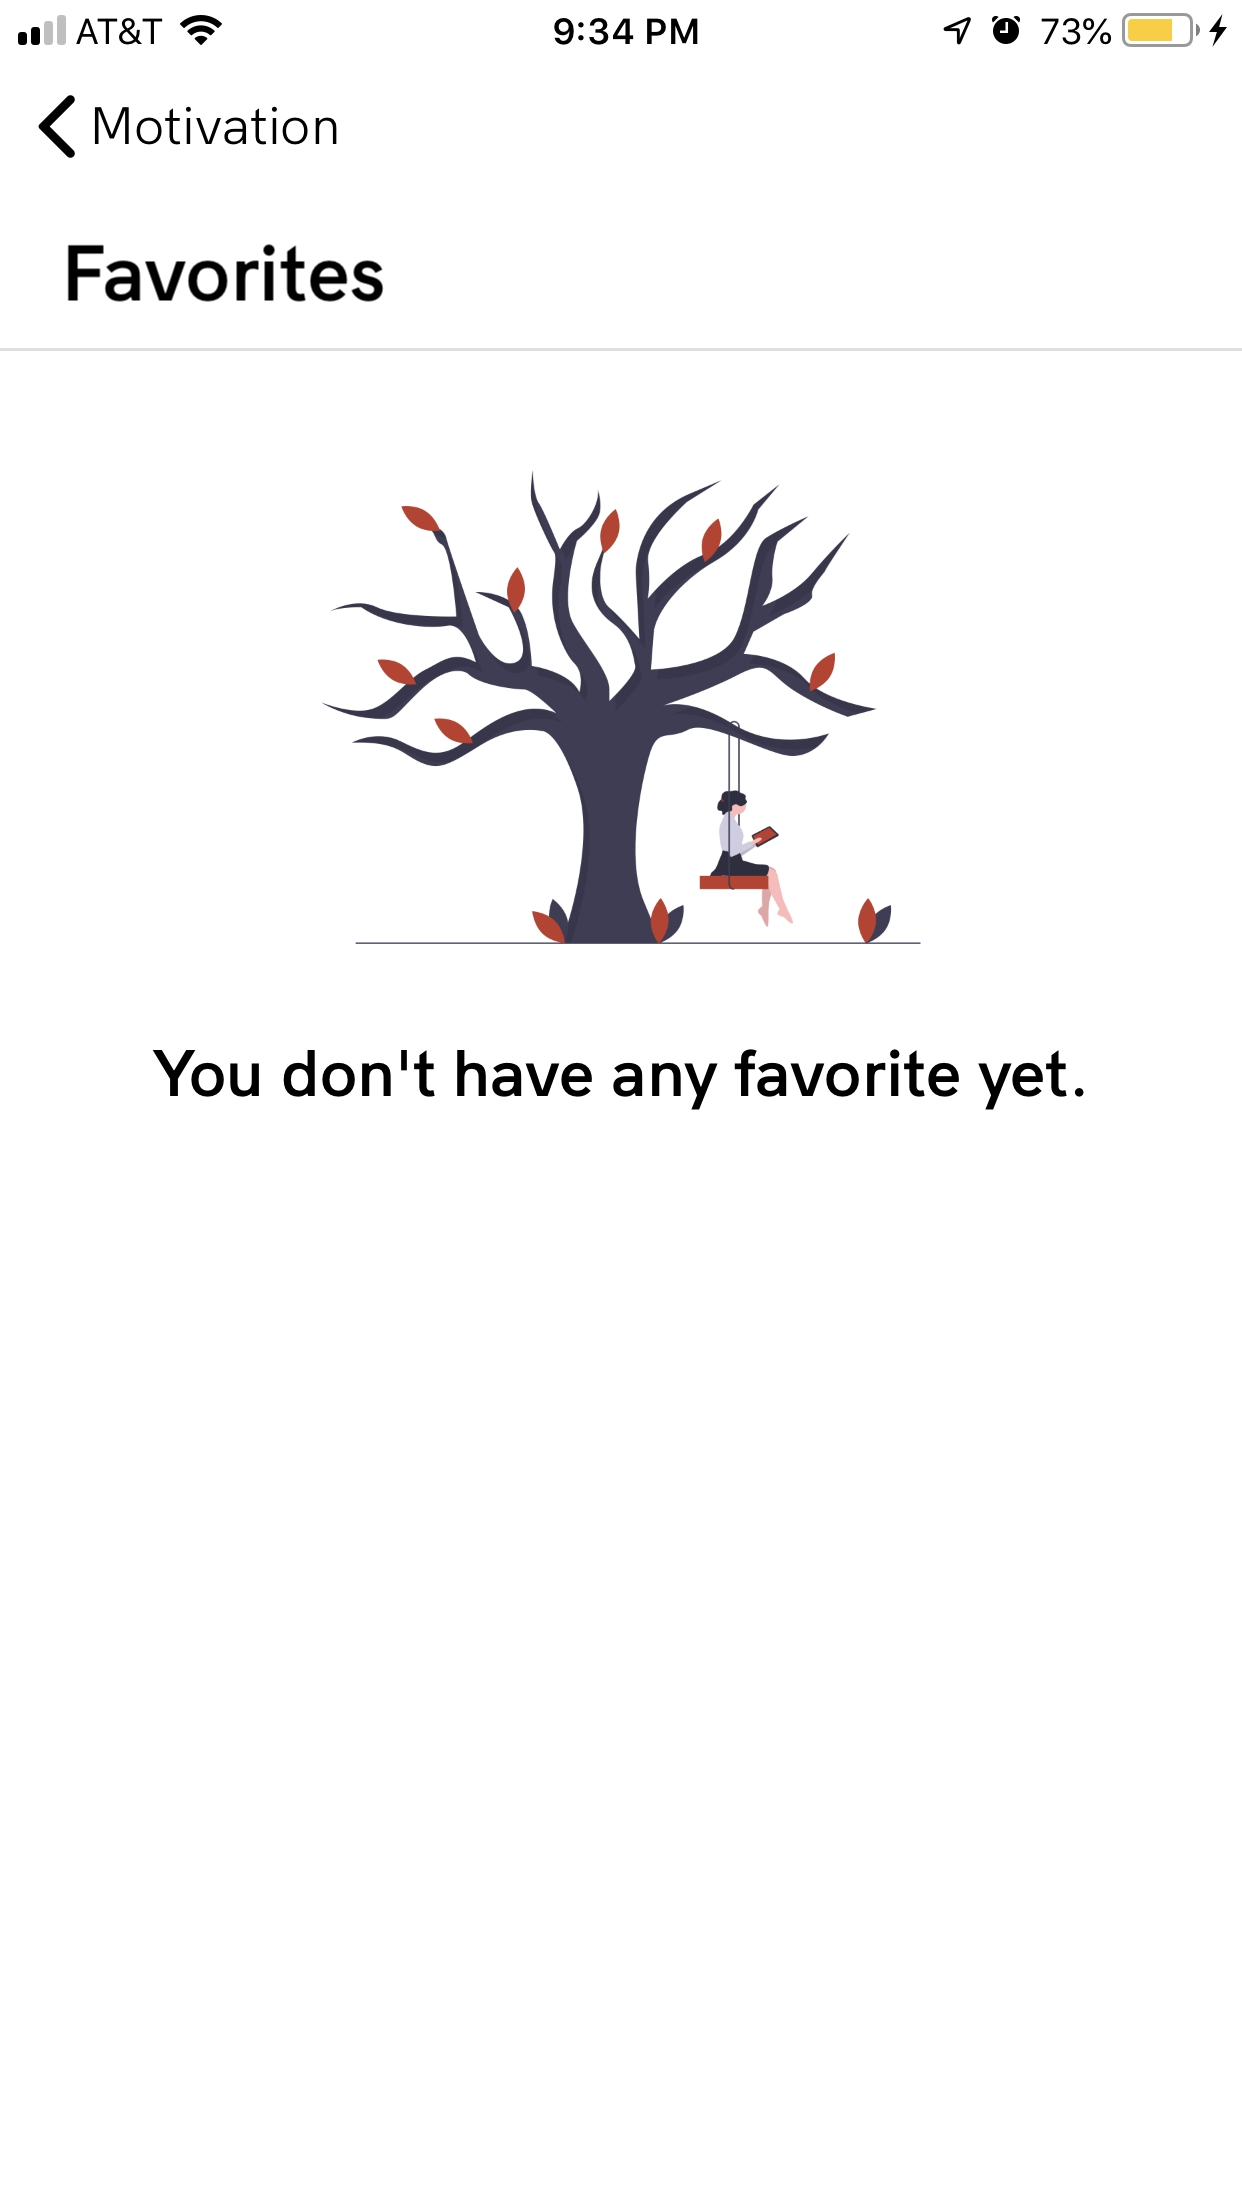Icon: (39, 96, 77, 161)
Image: (321, 472, 922, 946)
Text: (153, 1049, 1084, 1112), (68, 244, 385, 303), (94, 108, 338, 147)
UpperTaskBar: (2, 2, 1242, 49)
